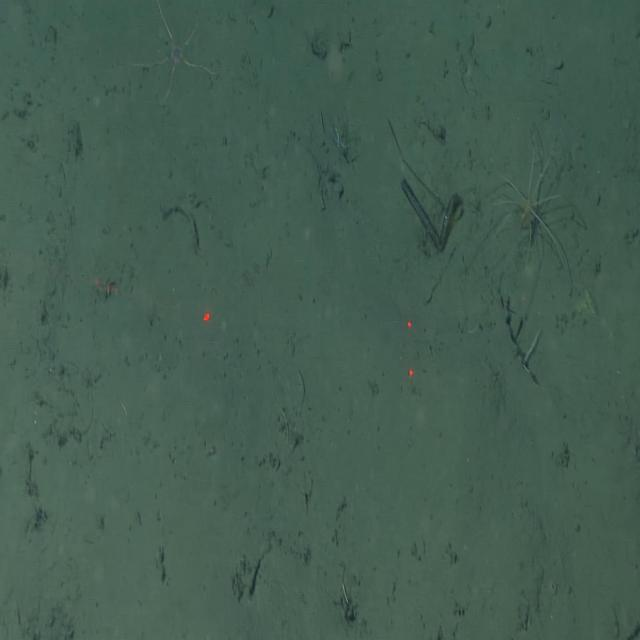Brittle Star: (125, 1, 221, 110)
